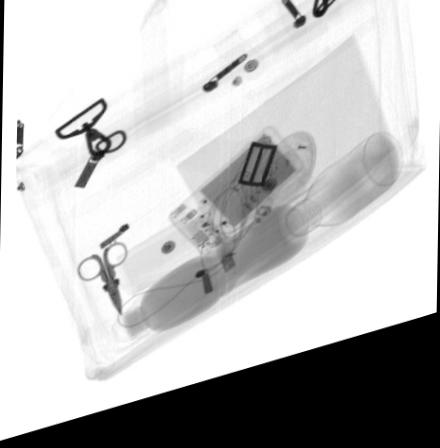Powerbank: (165, 142, 302, 270)
Scissors: (75, 248, 128, 328)
